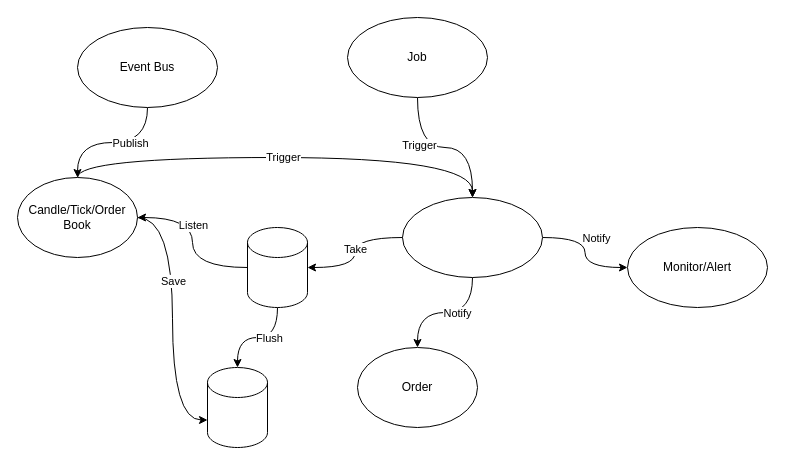
The diagram is 785 pixels wide and 465 high, and some of its shapes have lost their labels. The shapes that lost their labels are listed below. From the top down, each one's box as (x1, y1, x2, y2) in pixels, then its label:
(402, 196, 542, 278): Strategy
(246, 226, 308, 308): Indicator Pool
(206, 366, 268, 448): Database
